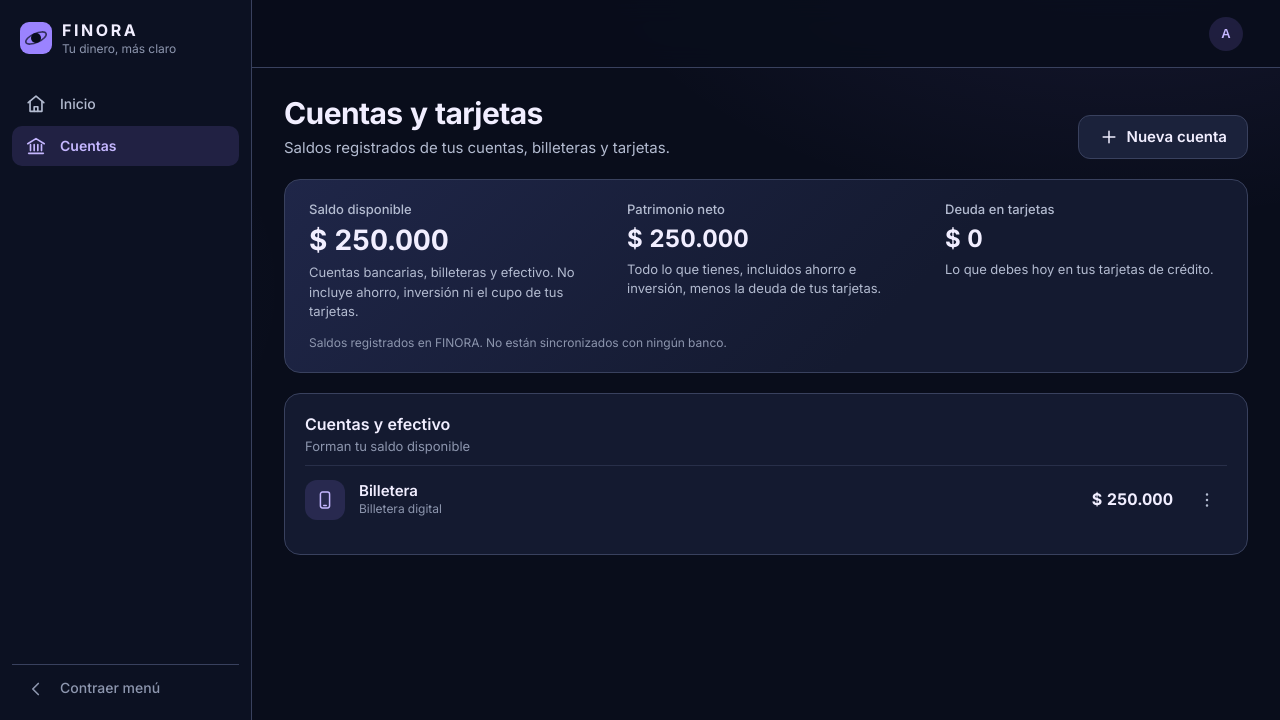
Test: archivar (CA-ACC-04) › Cancelar no archiva
Click the button named "Acciones de Billetera".
click(1207, 500)  # box left=1187, top=480, right=1227, bottom=520
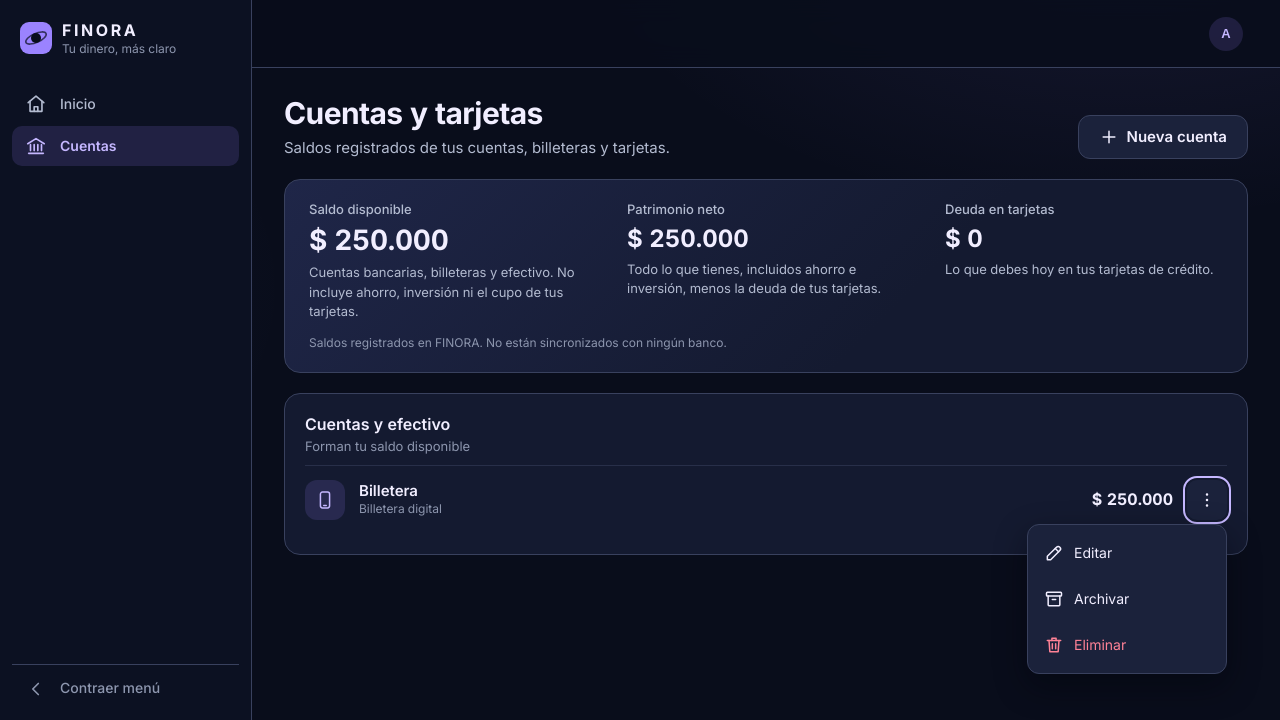
Click the button "Archivar".
click(1127, 599)  # box left=1034, top=577, right=1220, bottom=621
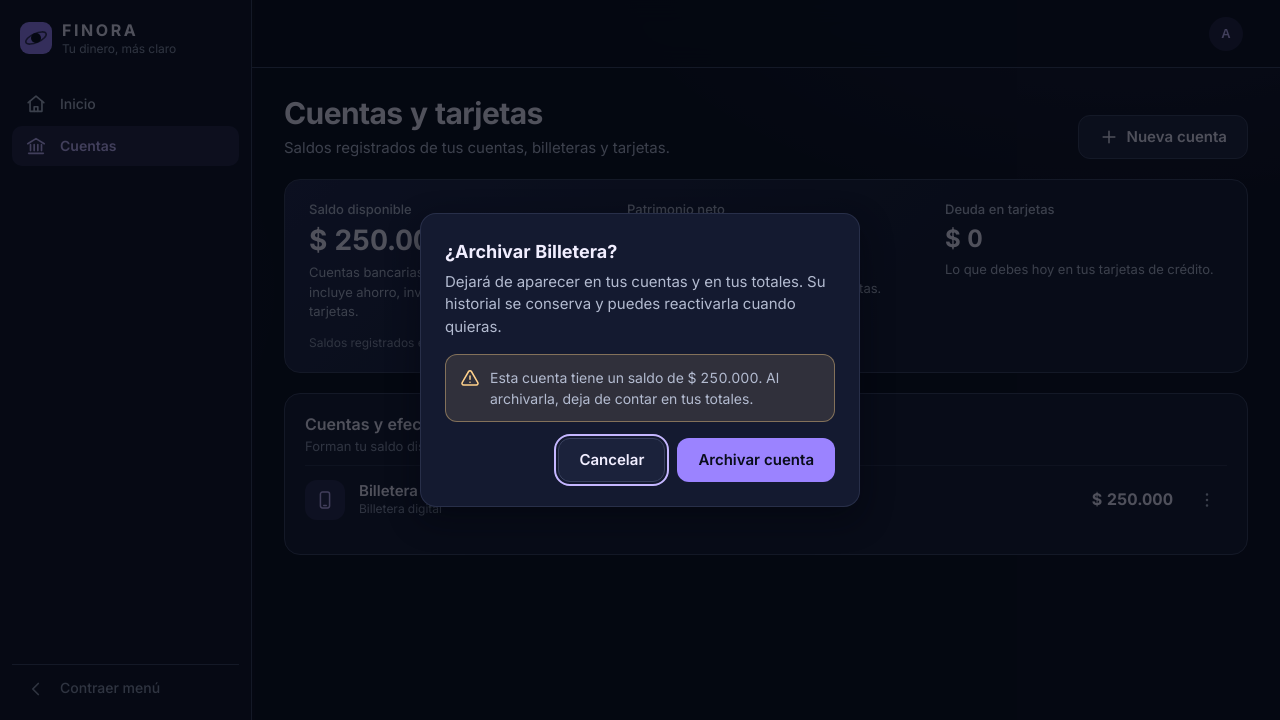
Click the button "Cancelar".
click(612, 460)  # box left=558, top=438, right=665, bottom=482
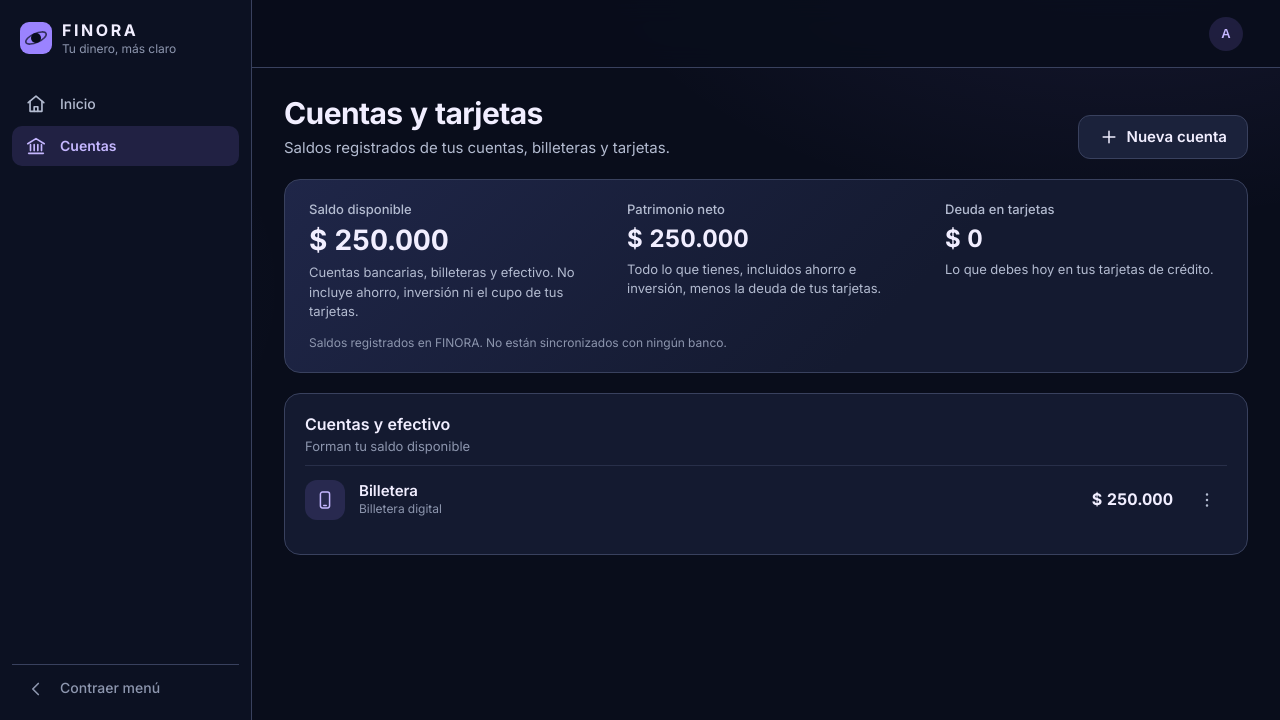
Check: the dialog is gone
